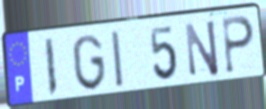5: (149, 24, 180, 83)
G: (70, 33, 108, 93)
I: (109, 28, 126, 91), (43, 36, 59, 99)
N: (183, 17, 221, 79)
P: (220, 15, 256, 76)
